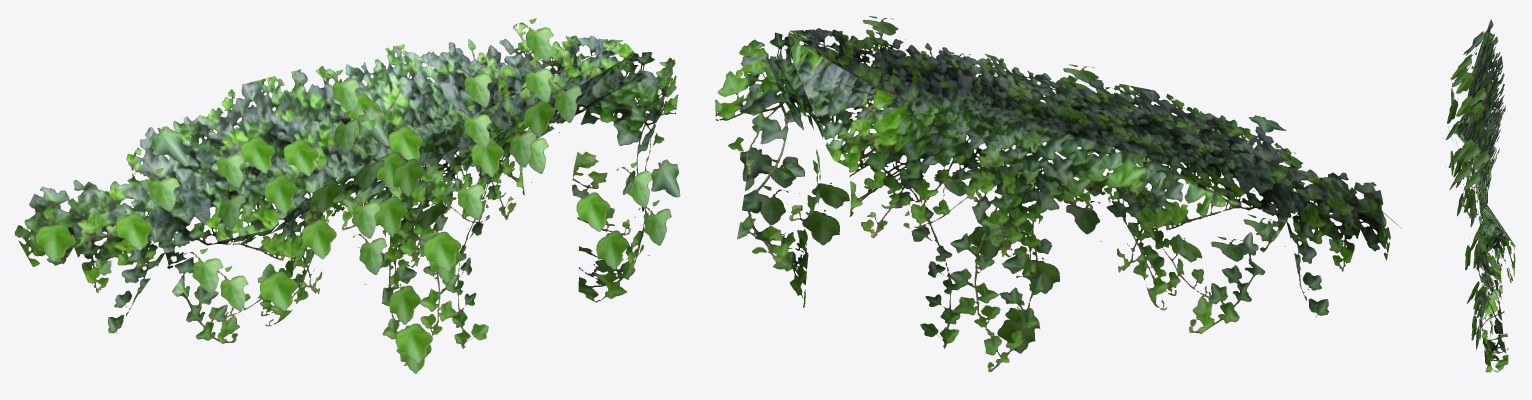
The model's file is ivy.fbx.
3 renders of one model, left to right at view 1: azimuth 30°, elevation 25°; view 2: azimuth 150°, elevation 25°; view 3: azimuth 270°, elevation 25°, orthographic. The views are drawn at different scales.
Visible parts, largest first — view 1: ivy 2 lod 0; view 2: ivy 2 lod 0; view 3: ivy 2 lod 0.
Part boxes in pixels (x1,y1,x2,y2): ivy 2 lod 0: (15,18,680,373); ivy 2 lod 0: (715,16,1401,372); ivy 2 lod 0: (1443,19,1515,372).
Size of what is drawn, in the model's own units: 242 by 119 by 34.99.
